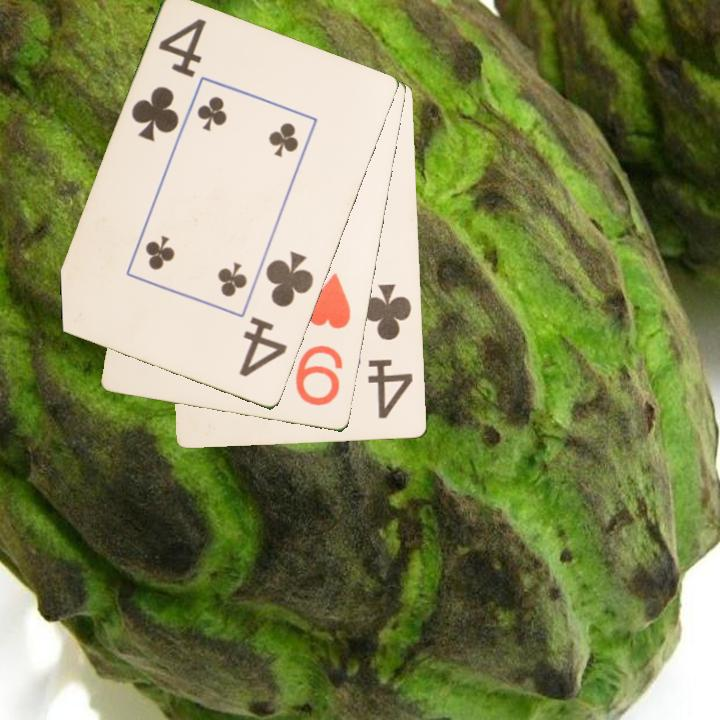4c: (235, 248, 317, 381), (128, 15, 210, 146), (360, 281, 416, 423)
9h: (292, 269, 354, 410)
